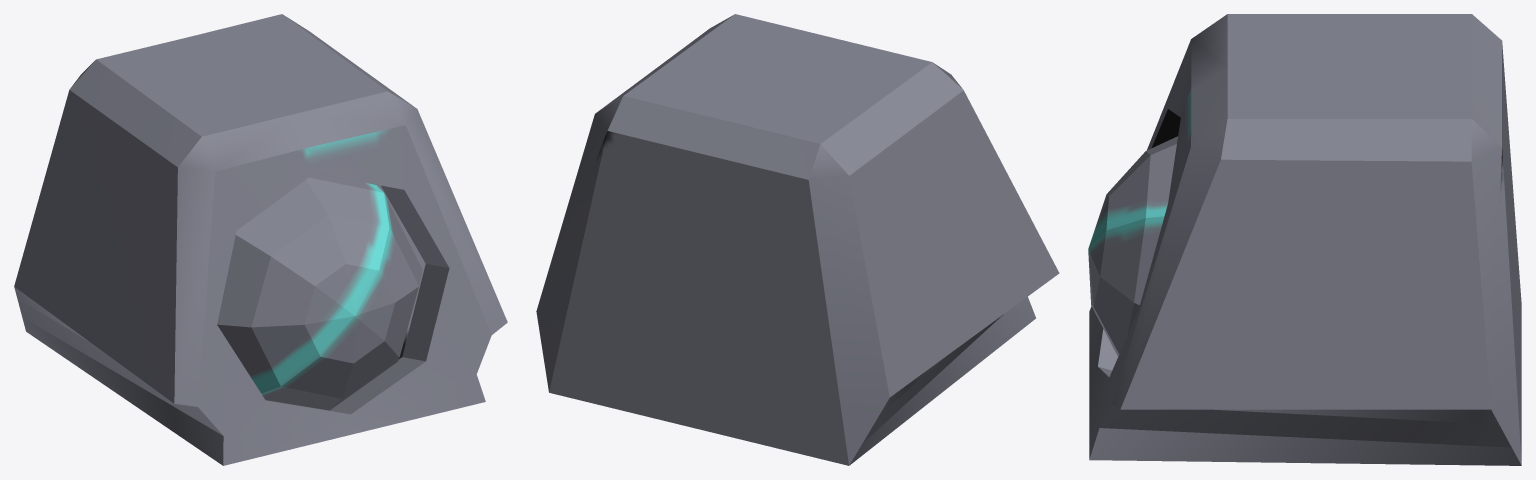
The model's file is BattleshipEnemy_Head_anim.fbx.
3 renders of one model, left to right at view 1: azimuth 30°, elevation 25°; view 2: azimuth 150°, elevation 25°; view 3: azimuth 270°, elevation 25°, orthographic. The views are drawn at different scales.
Parts seen in each view (by area): view 1: BattleshipEnemy_Mesh; view 2: BattleshipEnemy_Mesh; view 3: BattleshipEnemy_Mesh.
Part boxes in pixels (x1,y1,x2,y2): BattleshipEnemy_Mesh: [14, 14, 507, 465]; BattleshipEnemy_Mesh: [536, 14, 1059, 465]; BattleshipEnemy_Mesh: [1088, 14, 1521, 465].
Bounding box in the file's own units: 65.91 × 56.48 × 64.15.
